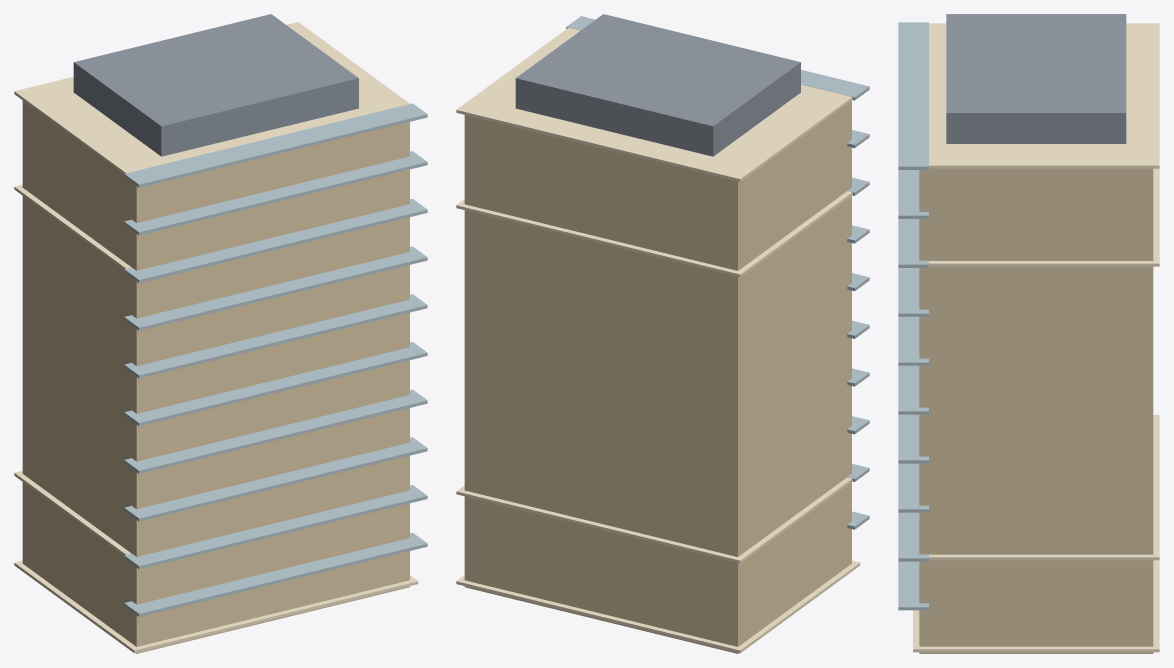
Rendered from modern-4-lod2.glb.
3 renders of one model, left to right at view 1: azimuth 30°, elevation 25°; view 2: azimuth 150°, elevation 25°; view 3: azimuth 270°, elevation 25°, orthographic. The views are drawn at different scales.
Visible parts, largest first — view 1: modern-4_architecture; view 2: modern-4_architecture; view 3: modern-4_architecture.
Boxes of the visible parts, x1,y1,x2,y2 form: modern-4_architecture: [14, 14, 427, 653]; modern-4_architecture: [456, 14, 869, 653]; modern-4_architecture: [898, 14, 1159, 653].
Size of the model in its own units: 19 by 32 by 14.5.
